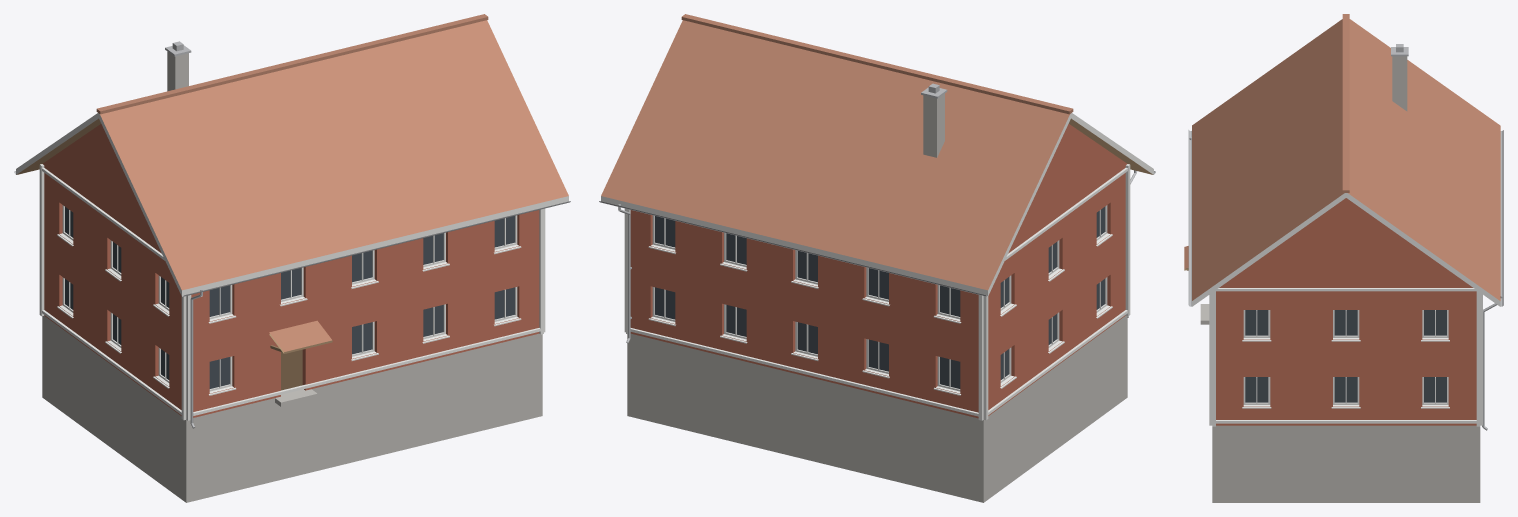
Rendered from nordic_house_2_l.glb.
3 renders of one model, left to right at view 1: azimuth 30°, elevation 25°; view 2: azimuth 150°, elevation 25°; view 3: azimuth 270°, elevation 25°, orthographic. The views are drawn at different scales.
Visible parts, largest first — view 1: nordic_house_2_l; view 2: nordic_house_2_l; view 3: nordic_house_2_l.
Boxes of the visible parts, x1=… form: nordic_house_2_l: x1=14, y1=14, x2=570, y2=502; nordic_house_2_l: x1=599, y1=14, x2=1155, y2=502; nordic_house_2_l: x1=1184, y1=14, x2=1503, y2=502.
Size of the model in its own units: 16.34 by 14.6 by 12.53.
